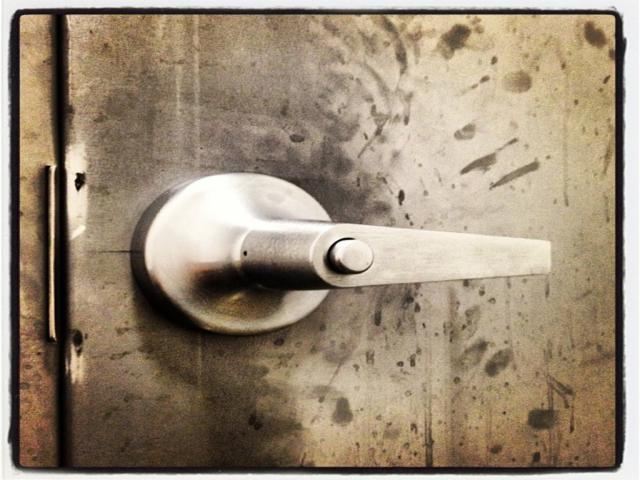Door-handle: (132, 170, 551, 337)
